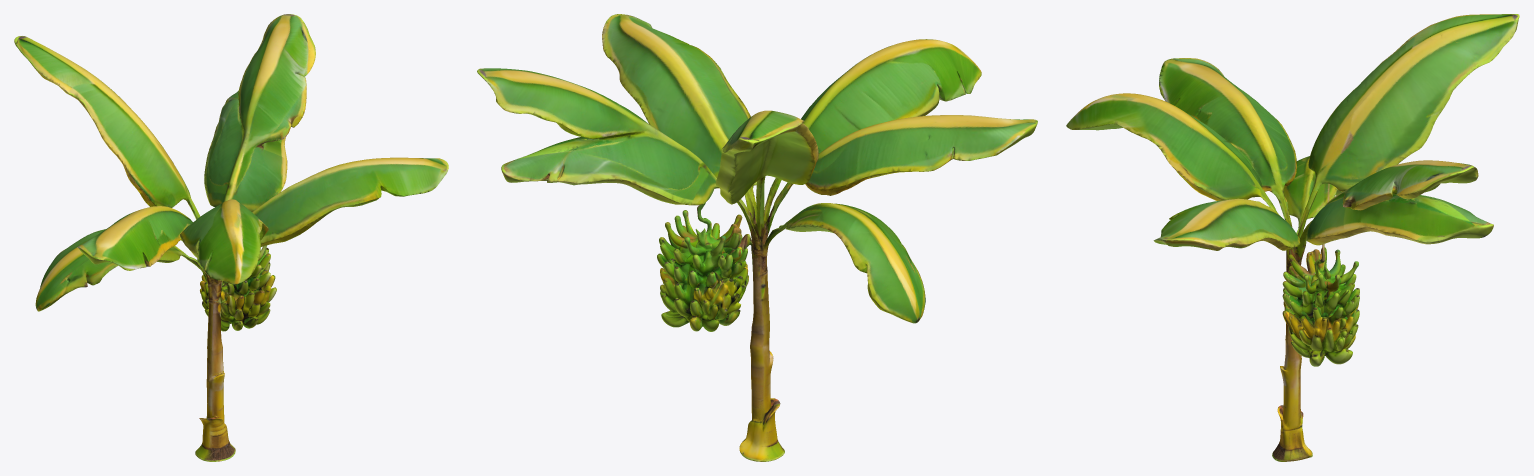
The model's file is _0615163206_texture.fbx.
3 renders of one model, left to right at view 1: azimuth 30°, elevation 25°; view 2: azimuth 150°, elevation 25°; view 3: azimuth 270°, elevation 25°, orthographic. The views are drawn at different scales.
Visible parts, largest first — view 1: Mesh_0; view 2: Mesh_0; view 3: Mesh_0.
Boxes of the visible parts, x1,y1,x2,y2 form: Mesh_0: [14, 14, 448, 461]; Mesh_0: [477, 14, 1037, 461]; Mesh_0: [1066, 14, 1519, 461].
Bounding box in the file's own units: 197 × 191 × 200.
1 material, 1 textured.
